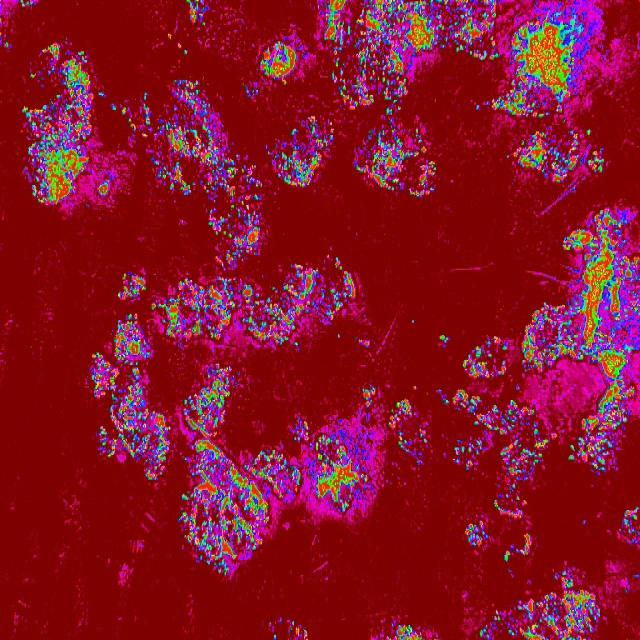fire: (178, 443, 270, 578), (152, 75, 240, 195), (162, 273, 279, 349), (355, 0, 498, 62), (584, 212, 640, 367), (508, 11, 586, 118), (103, 314, 156, 464), (21, 96, 92, 206), (352, 126, 437, 198), (308, 428, 379, 513), (522, 290, 586, 376), (266, 116, 337, 186), (182, 364, 242, 444), (508, 591, 603, 640), (278, 259, 326, 352), (504, 127, 580, 184), (208, 196, 262, 269), (329, 62, 410, 106), (567, 418, 627, 474), (41, 42, 92, 96), (502, 436, 552, 486), (483, 398, 542, 437), (256, 38, 300, 87), (460, 337, 509, 381), (598, 368, 636, 417), (268, 448, 300, 506), (321, 0, 344, 62), (326, 272, 354, 321), (395, 432, 431, 467), (452, 435, 484, 473), (491, 490, 528, 518), (441, 388, 482, 412), (88, 351, 105, 405), (388, 397, 413, 432), (463, 520, 492, 550), (238, 159, 262, 195), (116, 272, 146, 300), (620, 503, 640, 542), (387, 622, 426, 640), (156, 412, 168, 464), (186, 0, 208, 28), (558, 226, 582, 250), (588, 146, 606, 175), (286, 620, 309, 640), (552, 568, 572, 590), (292, 418, 310, 442), (144, 464, 164, 484), (142, 91, 152, 128), (362, 383, 378, 406), (489, 94, 507, 112), (354, 336, 372, 352), (517, 534, 531, 554), (478, 625, 494, 640), (98, 178, 110, 196), (332, 255, 345, 271), (176, 42, 188, 58), (96, 422, 102, 454), (472, 412, 484, 428), (244, 88, 258, 101), (384, 107, 394, 125), (125, 117, 136, 133), (502, 546, 512, 562), (149, 298, 160, 312), (491, 609, 502, 623), (440, 332, 450, 346), (20, 0, 36, 8), (409, 316, 418, 326), (346, 26, 353, 38), (119, 106, 127, 116), (110, 103, 118, 111), (483, 99, 491, 107), (4, 40, 10, 50), (586, 126, 592, 136), (98, 91, 105, 99), (168, 31, 175, 39), (28, 72, 35, 79), (140, 132, 148, 138), (396, 104, 402, 112), (474, 104, 480, 112), (336, 331, 342, 339), (272, 634, 280, 640), (267, 619, 273, 627)
